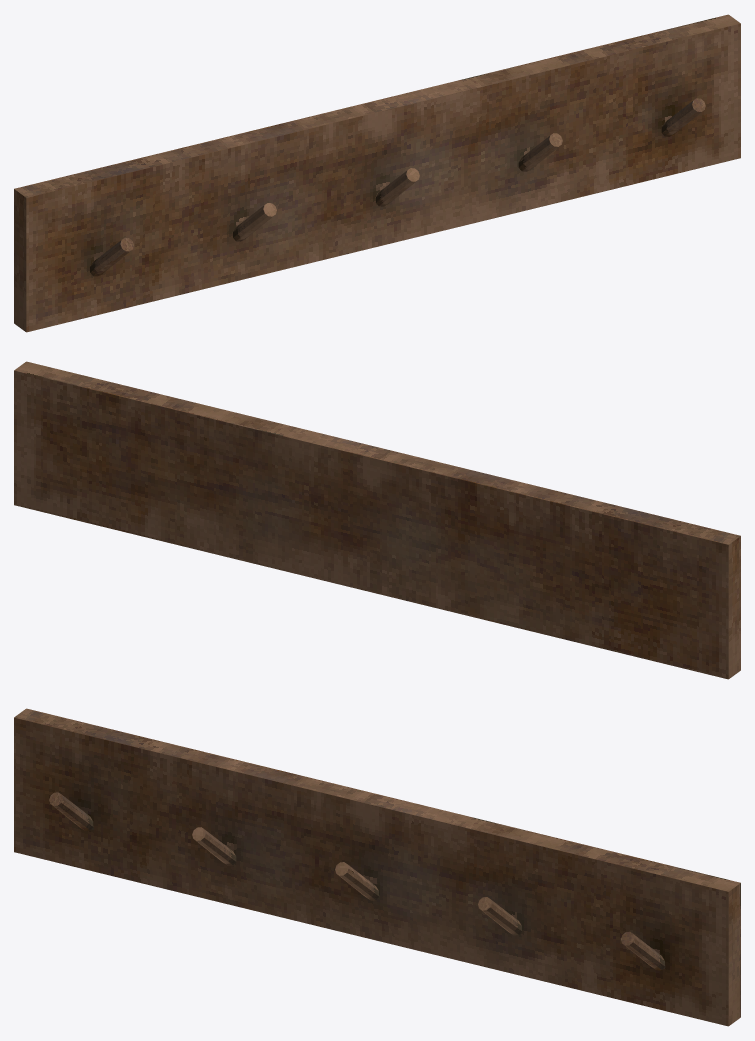
The model's file is ClothHanger.glb.
The picture shows the model from 3 angles, top to bottom: view 1: azimuth 30°, elevation 25°; view 2: azimuth 150°, elevation 25°; view 3: azimuth 330°, elevation 25°; orthographic projection.
Visible parts, largest first — view 1: ClothHanger; view 2: ClothHanger; view 3: ClothHanger.
Boxes of the visible parts, x1,y1,x2,y2 form: ClothHanger: [14, 14, 740, 332]; ClothHanger: [14, 361, 740, 679]; ClothHanger: [14, 708, 740, 1026].
Size of the model in its own units: 0.6582 by 0.1185 by 0.0705.
Materials: 1 (1 with a texture image).
